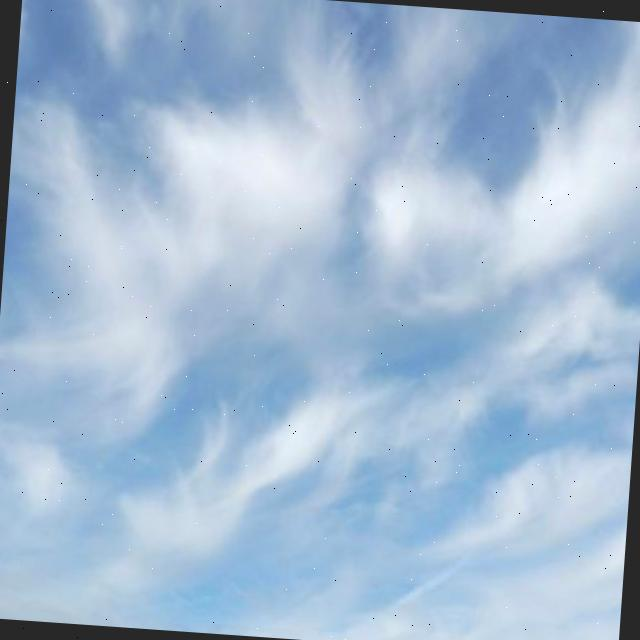Ci: (1, 3, 640, 609)
